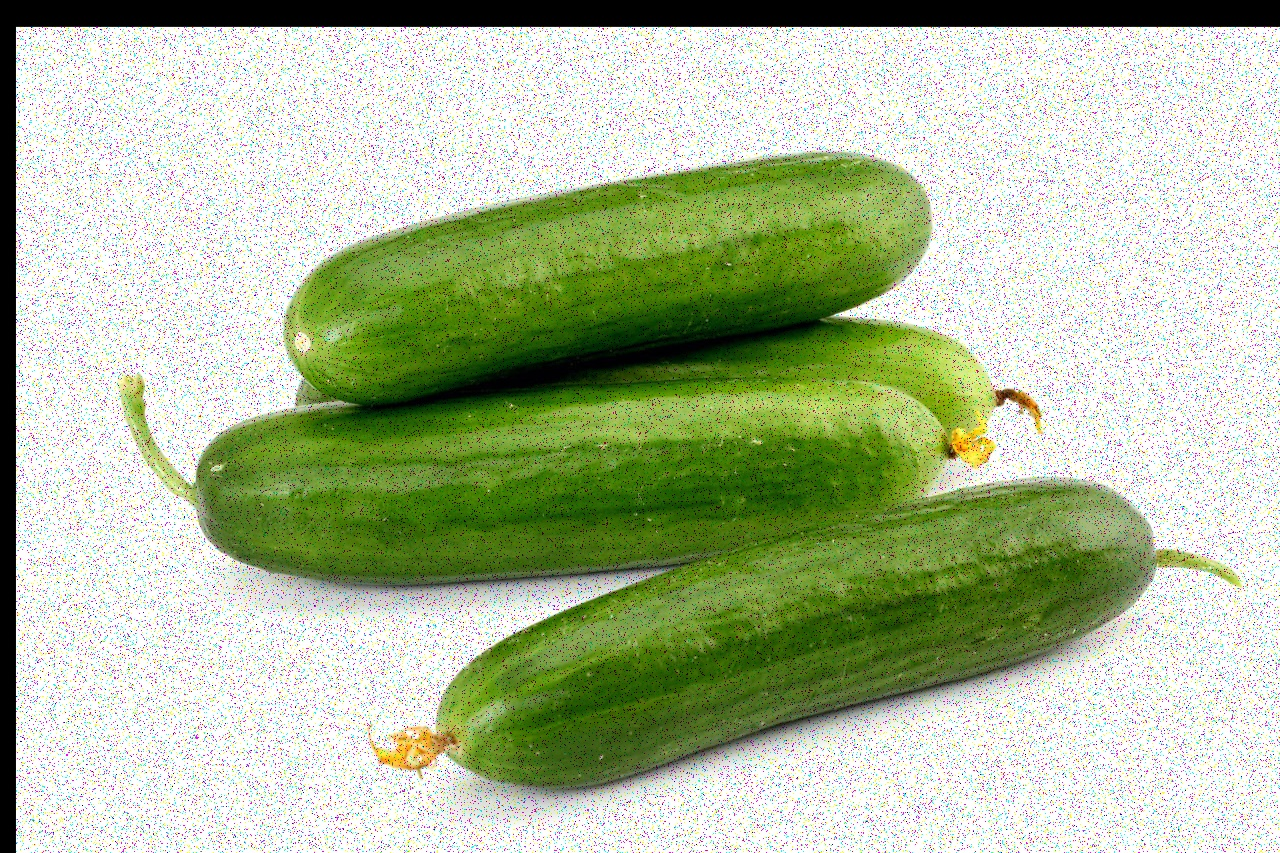cucumber: (435, 499, 1154, 767), (181, 363, 959, 582), (280, 173, 926, 402)
